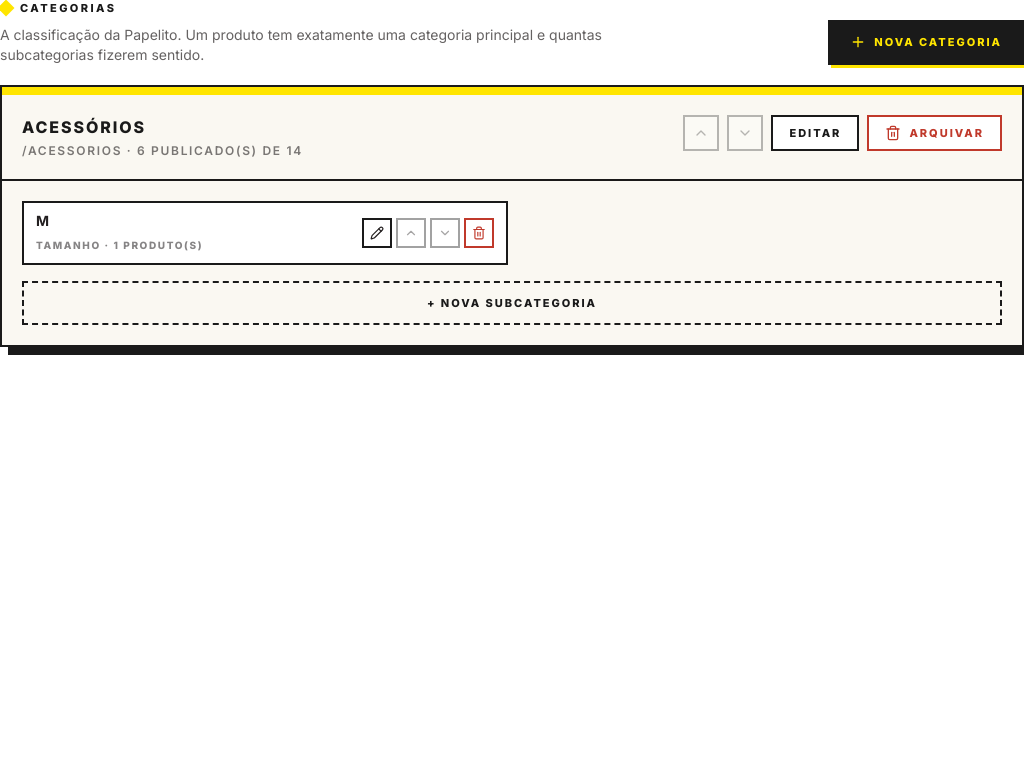
Test: CategoriesManager - edição de subcategoria › mostra o motivo real da recusa dentro do modal, que continua aberto
This screenshot has width=1024, height=768.
Click the button named "Editar M" at (377, 232), box [362,218,392,248]
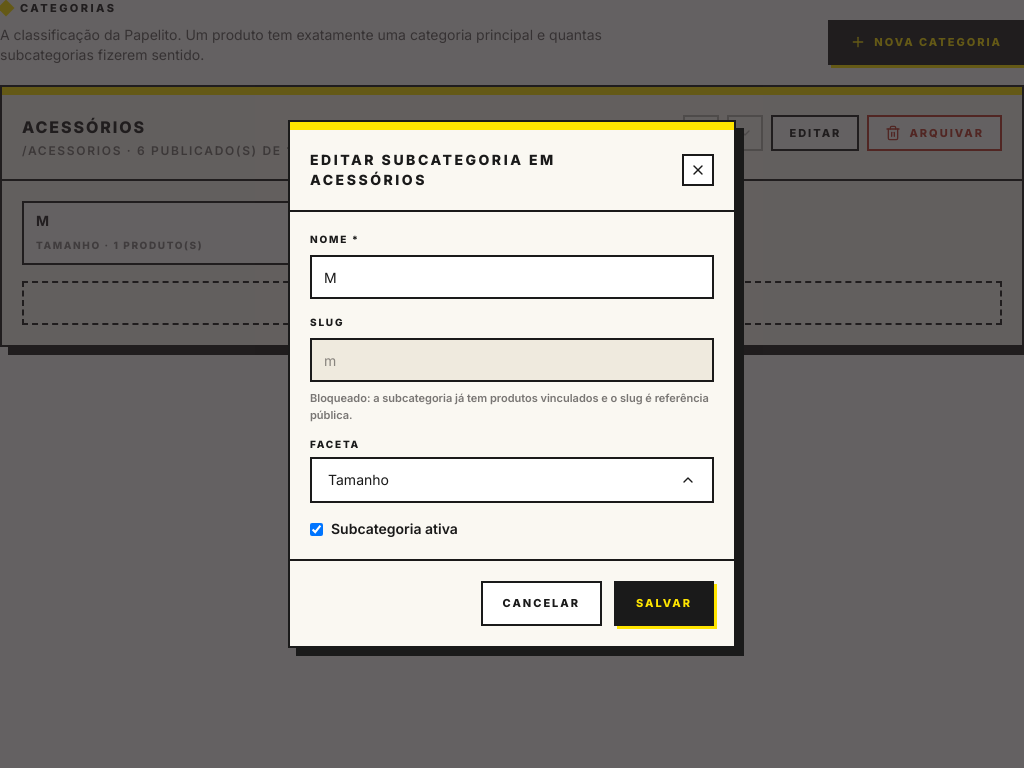
Click the checkbox labelled "Subcategoria ativa" at (316, 529), box [310,523,323,536]
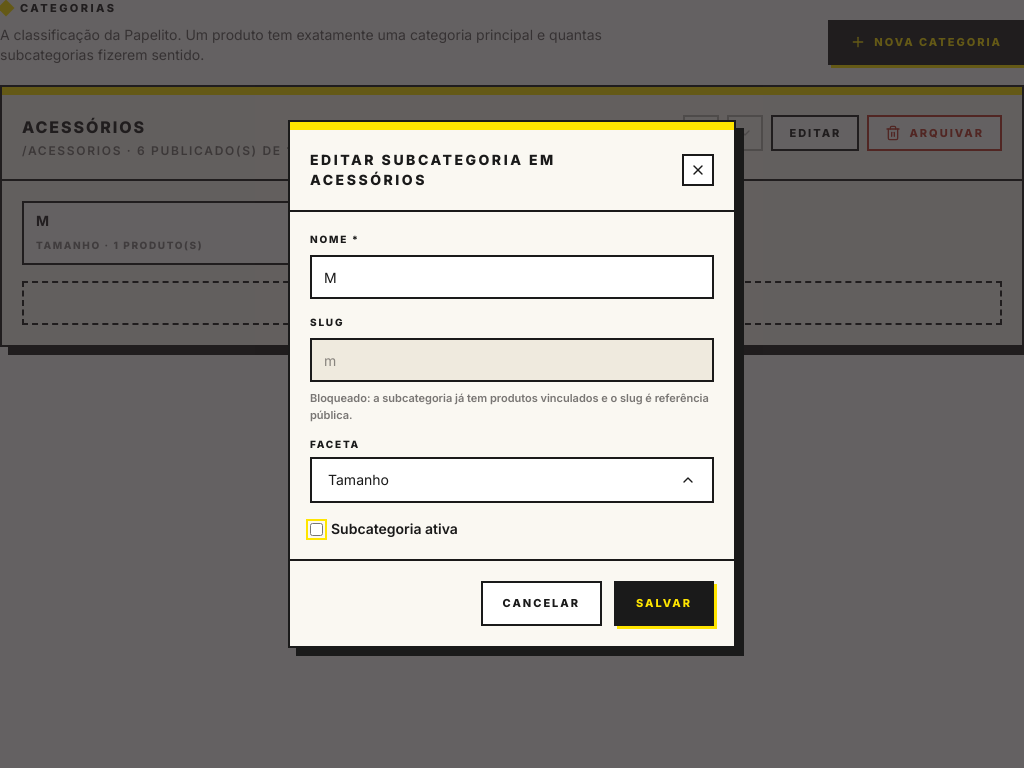
Click the button "Salvar" at (664, 604), box [614,581,714,626]
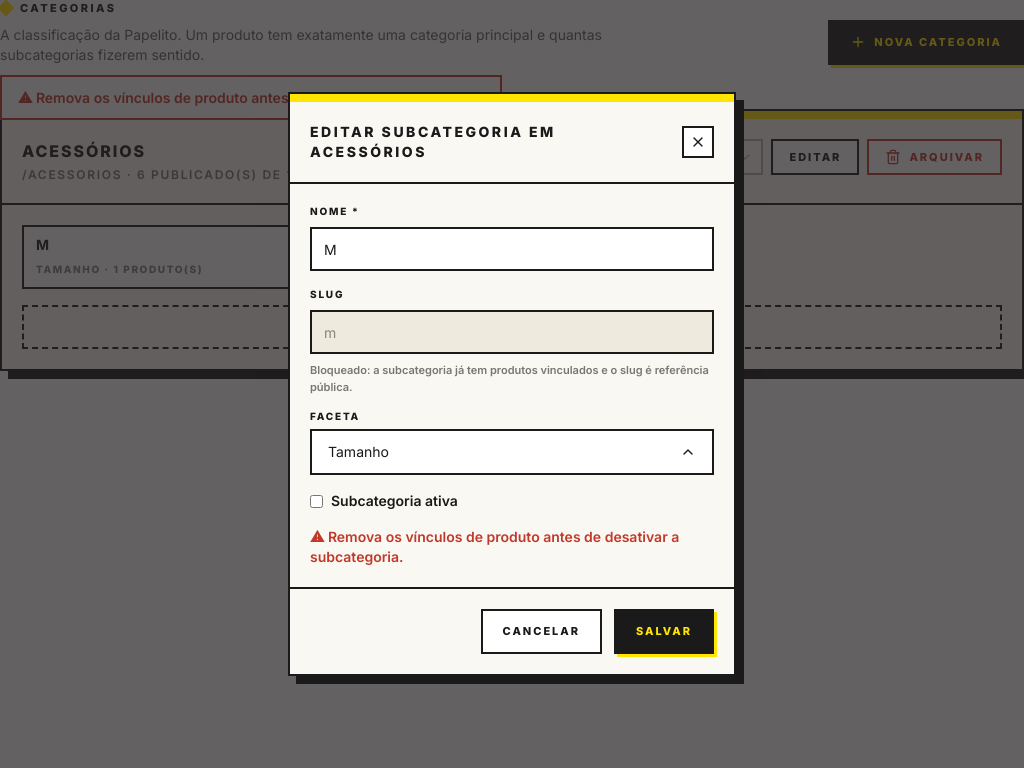
Result: the heading "Editar subcategoria em Acessórios" is shown at [310,123,556,160]
Result: the message shows "Remova os vínculos de produto antes de desativar a subcategoria." at [310,528,679,565]
